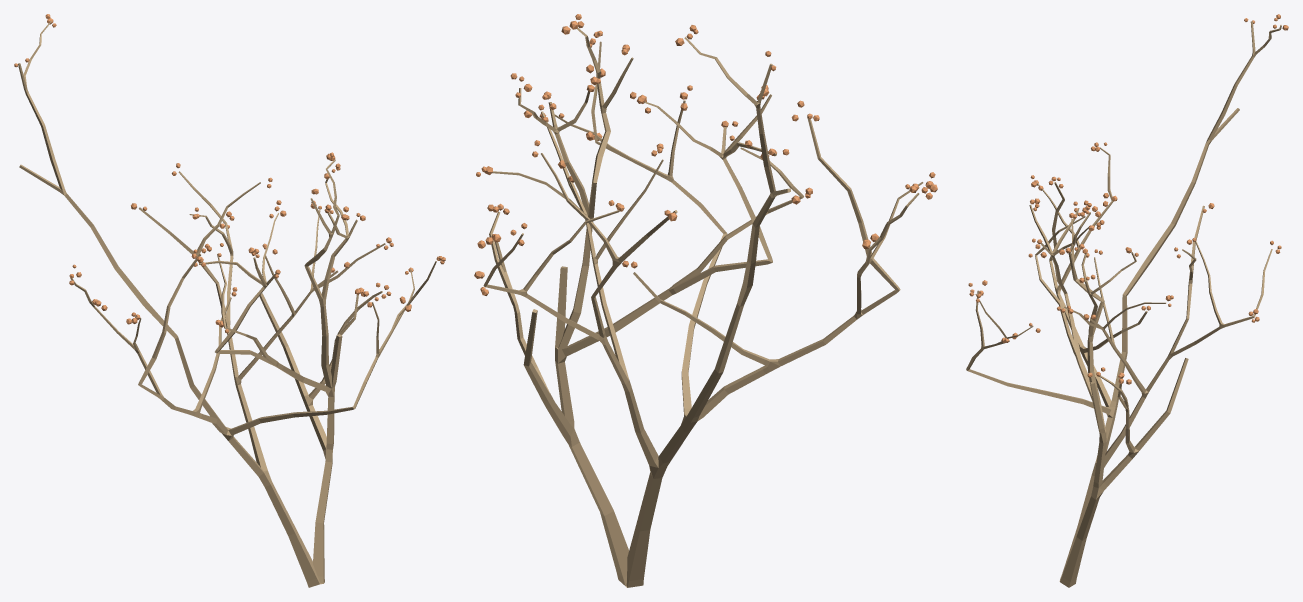
The picture shows the model from 3 angles, left to right: view 1: azimuth 30°, elevation 25°; view 2: azimuth 150°, elevation 25°; view 3: azimuth 270°, elevation 25°; orthographic projection. The views are drawn at different scales.
Visible parts, largest first — view 1: object 1; view 2: object 1; view 3: object 1.
Boxes of the visible parts, box(x1,y1,x2,y2) form: object 1: box(18, 21, 436, 587); object 1: box(483, 28, 923, 587); object 1: box(966, 21, 1281, 587).
Bounding box in the file's own units: 1.79 × 2.8 × 1.64.
